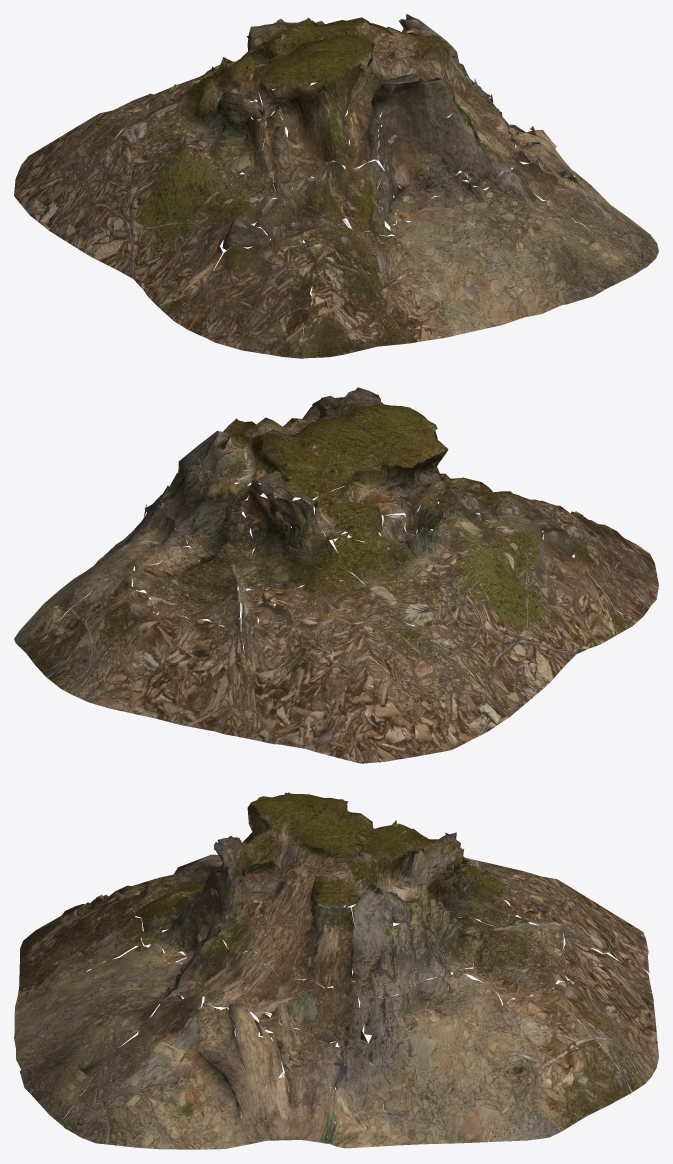
File: tree_stump_01.glb
3 views of the same model, one above another, from view 1: azimuth 30°, elevation 25°; view 2: azimuth 150°, elevation 25°; view 3: azimuth 270°, elevation 25° (orthographic). The views are drawn at different scales.
Parts seen in each view (by area): view 1: tree_stump_01; view 2: tree_stump_01; view 3: tree_stump_01.
Part boxes in pixels (bbox=[...]): tree_stump_01: bbox=[14, 14, 658, 358]; tree_stump_01: bbox=[14, 387, 658, 763]; tree_stump_01: bbox=[14, 792, 658, 1149].
Bounding box in the file's own units: 1.42 × 0.5721 × 1.59.
Materials: 1 (1 with a texture image).
